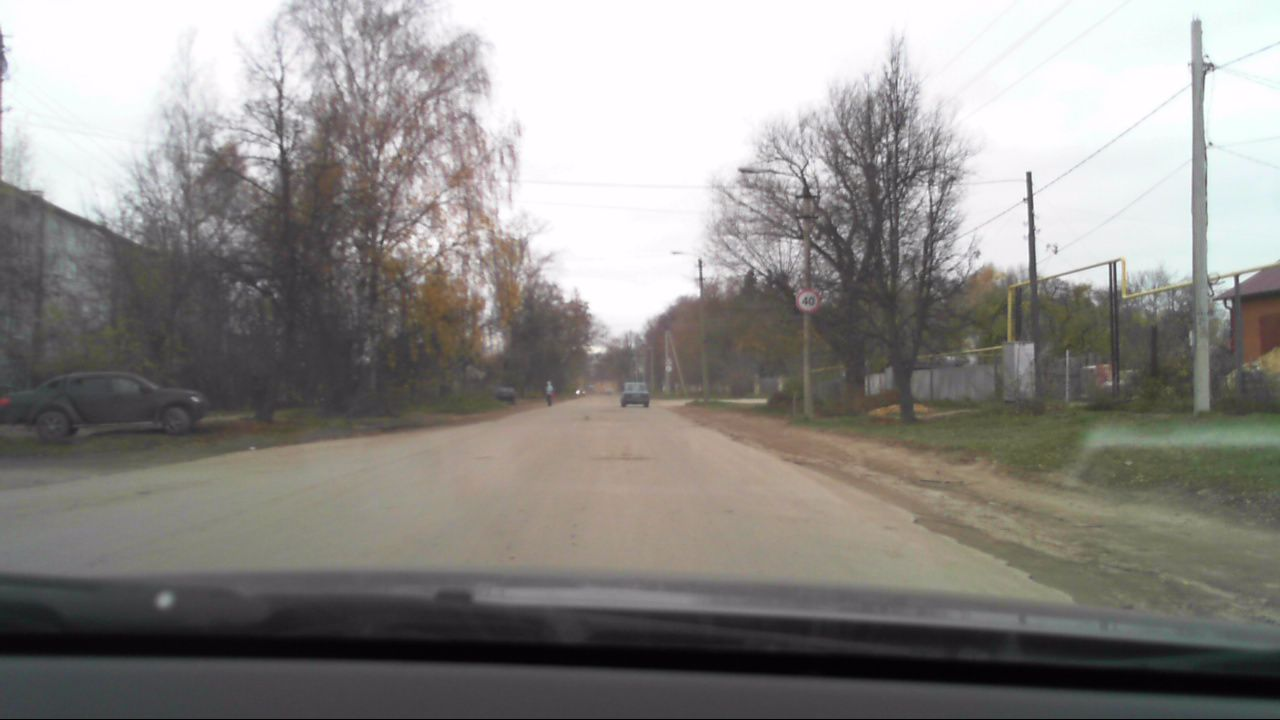speed_warning_40: (795, 287, 824, 314)
